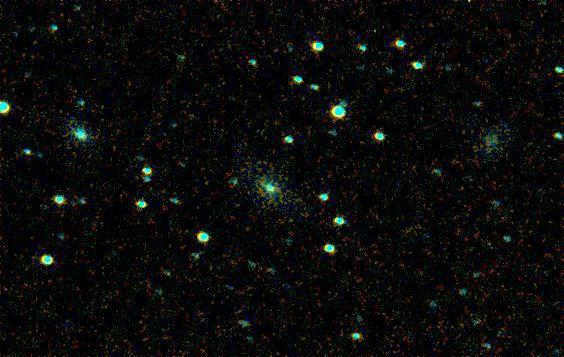star: (12, 137, 42, 167)
